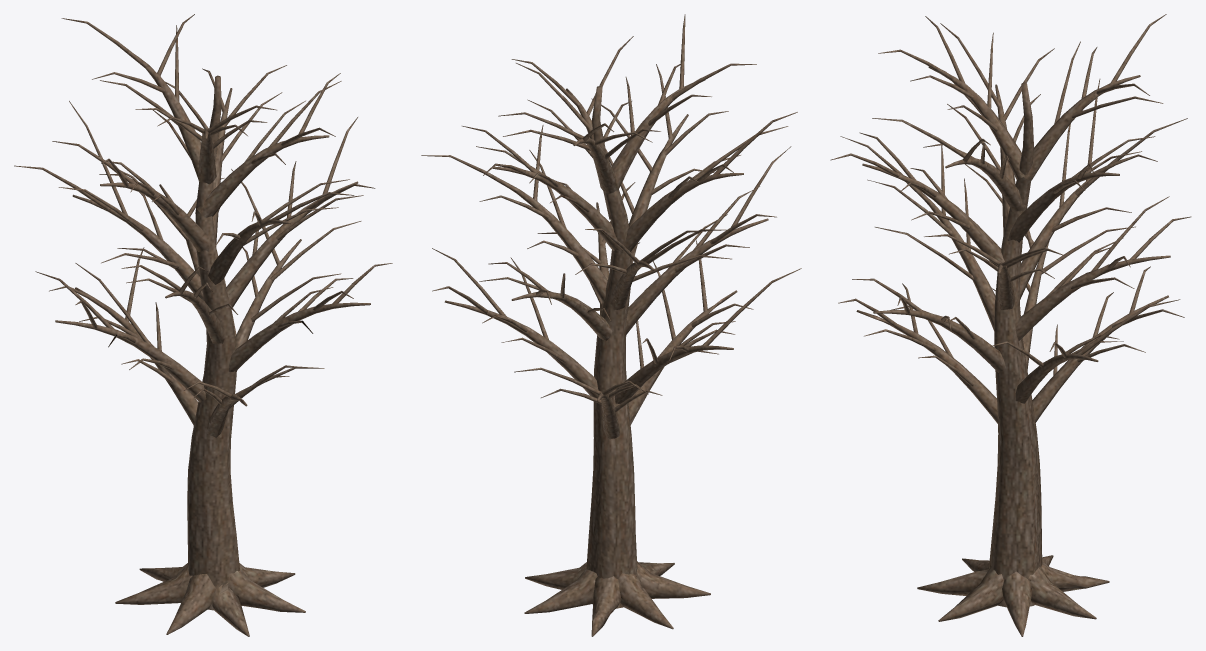
File: trunk_2.fbx
3 views of the same model, side by side, from view 1: azimuth 30°, elevation 25°; view 2: azimuth 150°, elevation 25°; view 3: azimuth 270°, elevation 25° (orthographic).
Parts seen in each view (by area): view 1: trunk_2; view 2: trunk_2; view 3: trunk_2.
Part boxes in pixels (x1=…): trunk_2: x1=14, y1=14, x2=392, y2=636; trunk_2: x1=421, y1=14, x2=801, y2=636; trunk_2: x1=830, y1=14, x2=1191, y2=636.
Size of what is drawn, in the model's own units: 4.06 by 6.35 by 3.8.
Materials: 1 (1 with a texture image).
